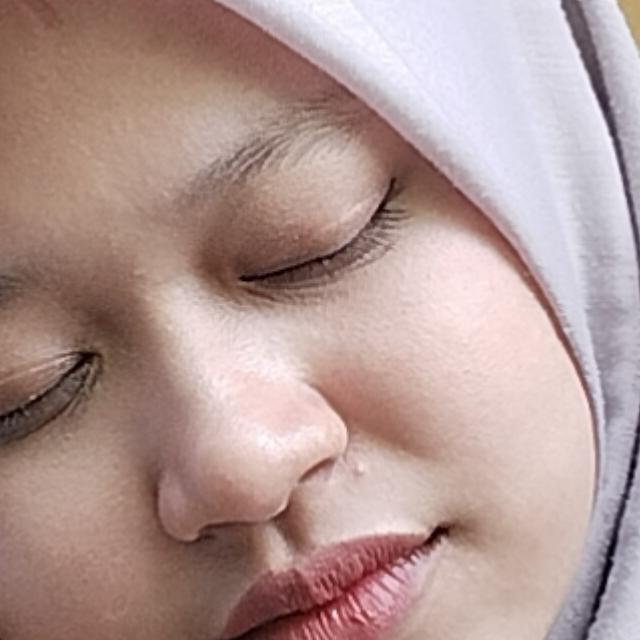tidur: (0, 318, 616, 640)
